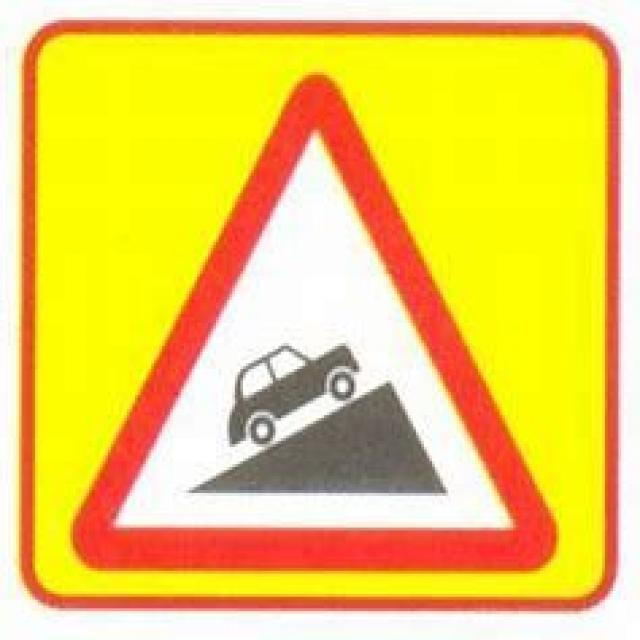STEEP_ASCENT: (70, 66, 556, 571)
